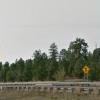Tree: (10, 37, 100, 79)
